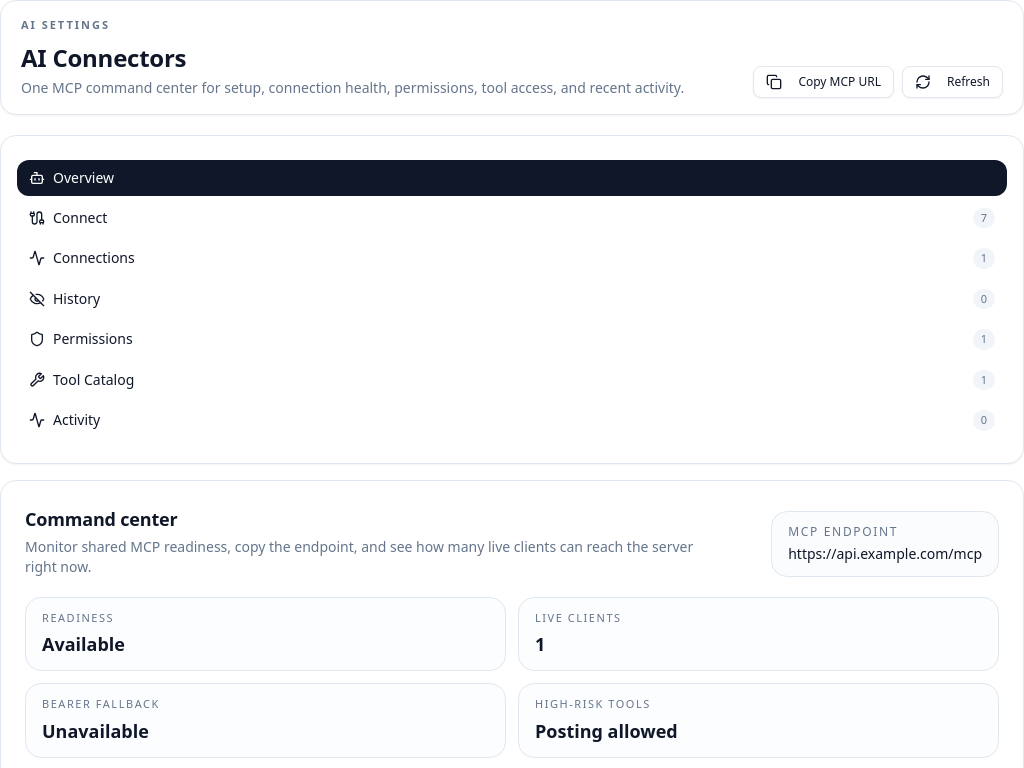
AiConnectorsSettingsClient › groups dividend write with posting permissions and marks it as advanced
Click the button with test id "ai-connectors-tab-permissions".
click(93, 339)  # box [17,321,1007,358]
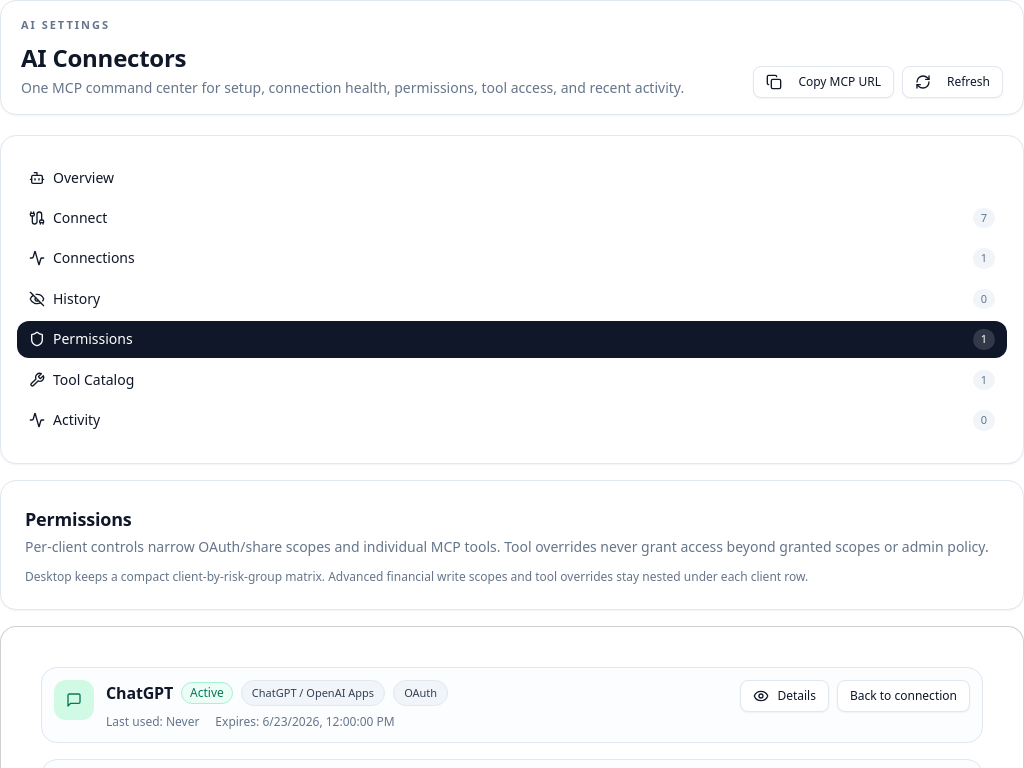
Check: the text "Advanced financial write" is shown, box [25,568,808,584]
